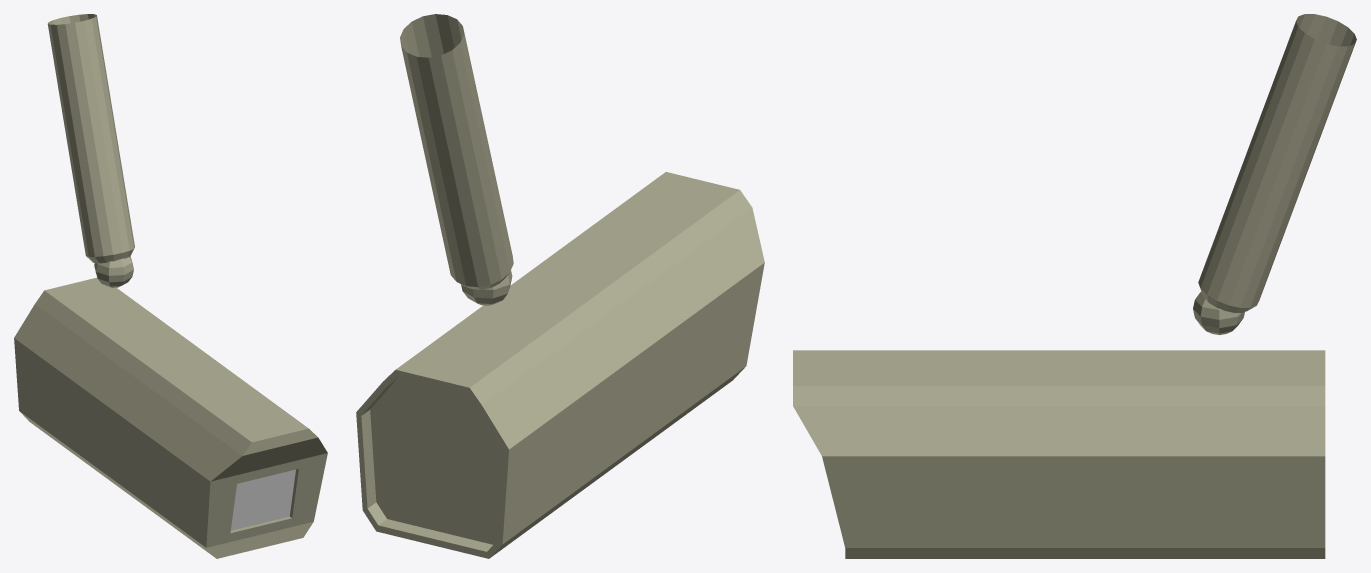
The model's file is SecCamera.fbx.
The picture shows the model from 3 angles, left to right: view 1: azimuth 30°, elevation 25°; view 2: azimuth 150°, elevation 25°; view 3: azimuth 270°, elevation 25°; orthographic projection. The views are drawn at different scales.
Parts seen in each view (by area): view 1: SecurityCamera, SecurityCameraCap.001, Sphere.003; view 2: SecurityCamera, SecurityCameraCap.001, Sphere.003; view 3: SecurityCamera, SecurityCameraCap.001, Sphere.003.
Part boxes in pixels (bbox=[...]): SecurityCamera: bbox=[14, 277, 327, 558]; SecurityCameraCap.001: bbox=[47, 14, 134, 263]; Sphere.003: bbox=[94, 256, 133, 287]; SecurityCamera: bbox=[356, 172, 764, 558]; SecurityCameraCap.001: bbox=[400, 14, 513, 289]; Sphere.003: bbox=[461, 270, 512, 305]; SecurityCamera: bbox=[793, 350, 1325, 558]; SecurityCameraCap.001: bbox=[1198, 14, 1356, 312]; Sphere.003: bbox=[1193, 291, 1244, 335].
Size of the model in its own units: 10.73 by 34.79 by 34.79.
